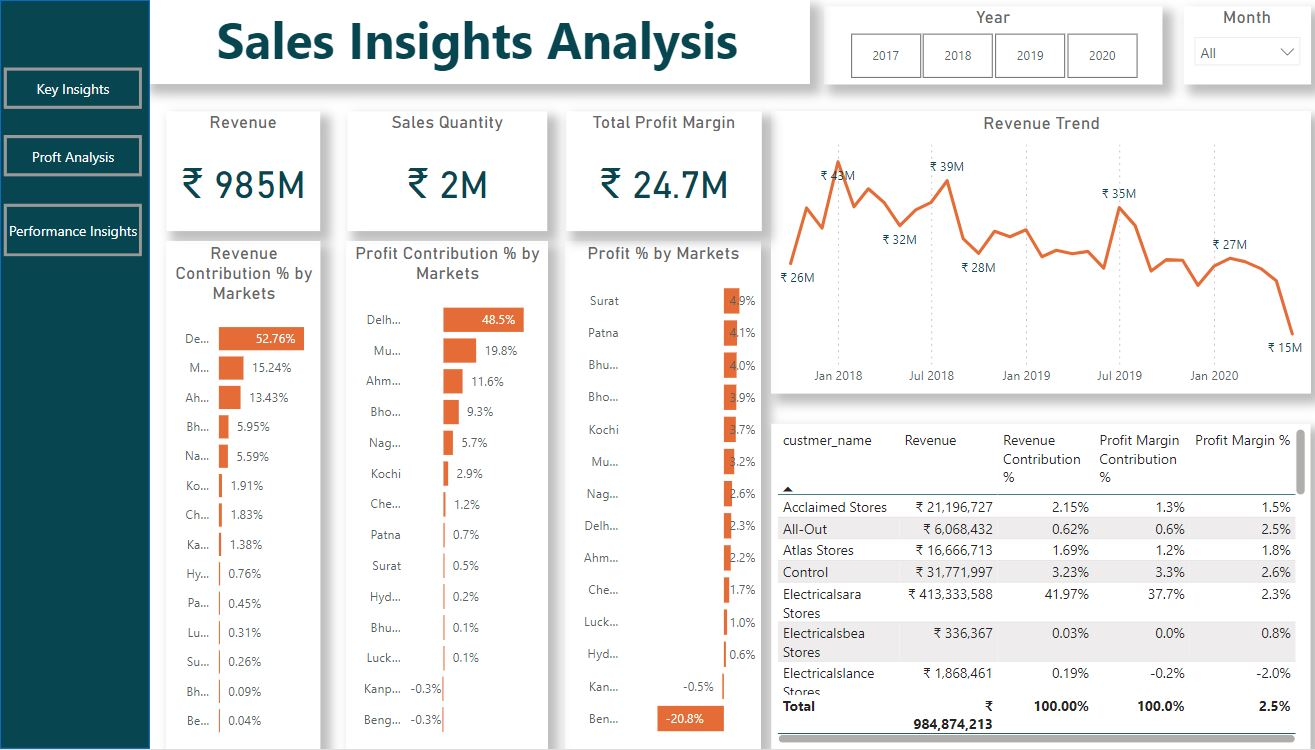

What the dashboard file says about the page in this screenshot:
{"tool":"powerbi","page":{"name":"Profit Analysis","canvas":[1280,720],"ordinal":1},"visuals":[{"type":"card","title":"Sales Quantity","fields":{"Values":["sales transactions.Sales Qty"]},"box":[344.1,106.9,191.9,115.2],"z":0},{"type":"card","title":"Revenue","fields":{"Values":["sales transactions.Revenue"]},"box":[170,106.9,148.1,115.2],"z":1000},{"type":"barChart","title":"Profit %  by Markets","fields":{"Category":["sales markets.markets_name"],"Y":["sales transactions.Profit Margin %"]},"box":[552.5,231.7,187.8,488.1],"z":2000},{"type":"actionButton","box":[0,0,100,40],"z":3000},{"type":"tableEx","title":"Top 5 Customers","fields":{"Values":["sales customers.custmer_name","sales transactions.Revenue","sales transactions.Revenue Contribution %","sales transactions.Profit Margin Contribution %","sales transactions.Profit Margin %"]},"box":[751.3,407.2,518.3,312.6],"z":4000},{"type":"lineChart","title":"Revenue Trend","fields":{"Y":["sales transactions.Revenue"],"Category":["sales date.cy_date.Variation.Date Hierarchy.Year","sales date.cy_date.Variation.Date Hierarchy.Quarter","sales date.cy_date.Variation.Date Hierarchy.Month","sales date.cy_date.Variation.Date Hierarchy.Day"]},"box":[751.3,106.9,518.3,271.5],"z":5000},{"type":"card","title":"Total Profit Margin","fields":{"Values":["sales transactions.Total Profit Margin"]},"box":[553.9,106.9,187.8,115.2],"z":6000},{"type":"barChart","title":"Profit Contribution % by Markets","fields":{"Category":["sales markets.markets_name"],"Y":["sales transactions.Profit Margin Contribution %"]},"box":[342.8,231.7,193.3,488.1],"z":7000},{"type":"barChart","title":"Revenue Contribution % by Markets","fields":{"Category":["sales markets.markets_name"],"Y":["sales transactions.Revenue Contribution %"]},"box":[170,231.7,148.1,488.1],"z":8000},{"type":"slicer","title":"Year","fields":{"Values":["sales date.year"]},"box":[801.1,5.6,325.6,75.6],"z":9000},{"type":"slicer","title":"Month","fields":{"Values":["sales date.Month"]},"box":[1147.6,5.5,122,75.4],"z":10000},{"type":"textbox","box":[148.9,0,638.9,81.1],"z":11000},{"type":"shape","box":[10,0.2,144,719.8],"z":12000},{"type":"actionButton","box":[13.2,64.4,133,39.8],"z":13000},{"type":"actionButton","box":[13.2,130.2,133,39.8],"z":14000},{"type":"actionButton","box":[13.2,196,133,50.7],"z":15000}]}

Visuals, with their boxes in screenshot pixels (x1, y1, x2, y2), scaled from the page's 1280x720 canvas onto the 1315x750 screenshot:
"Sales Quantity" card: {"left": 354, "top": 111, "right": 551, "bottom": 231}
"Revenue" card: {"left": 175, "top": 111, "right": 327, "bottom": 231}
"Profit %  by Markets" barChart: {"left": 568, "top": 241, "right": 761, "bottom": 749}
actionButton: {"left": 0, "top": 0, "right": 103, "bottom": 42}
"Top 5 Customers" tableEx: {"left": 772, "top": 424, "right": 1304, "bottom": 749}
"Revenue Trend" lineChart: {"left": 772, "top": 111, "right": 1304, "bottom": 394}
"Total Profit Margin" card: {"left": 569, "top": 111, "right": 762, "bottom": 231}
"Profit Contribution % by Markets" barChart: {"left": 352, "top": 241, "right": 551, "bottom": 749}
"Revenue Contribution % by Markets" barChart: {"left": 175, "top": 241, "right": 327, "bottom": 749}
"Year" slicer: {"left": 823, "top": 6, "right": 1158, "bottom": 85}
"Month" slicer: {"left": 1179, "top": 6, "right": 1304, "bottom": 84}
textbox: {"left": 153, "top": 0, "right": 809, "bottom": 84}
shape: {"left": 10, "top": 0, "right": 158, "bottom": 749}
actionButton: {"left": 14, "top": 67, "right": 150, "bottom": 109}
actionButton: {"left": 14, "top": 136, "right": 150, "bottom": 177}
actionButton: {"left": 14, "top": 204, "right": 150, "bottom": 257}
